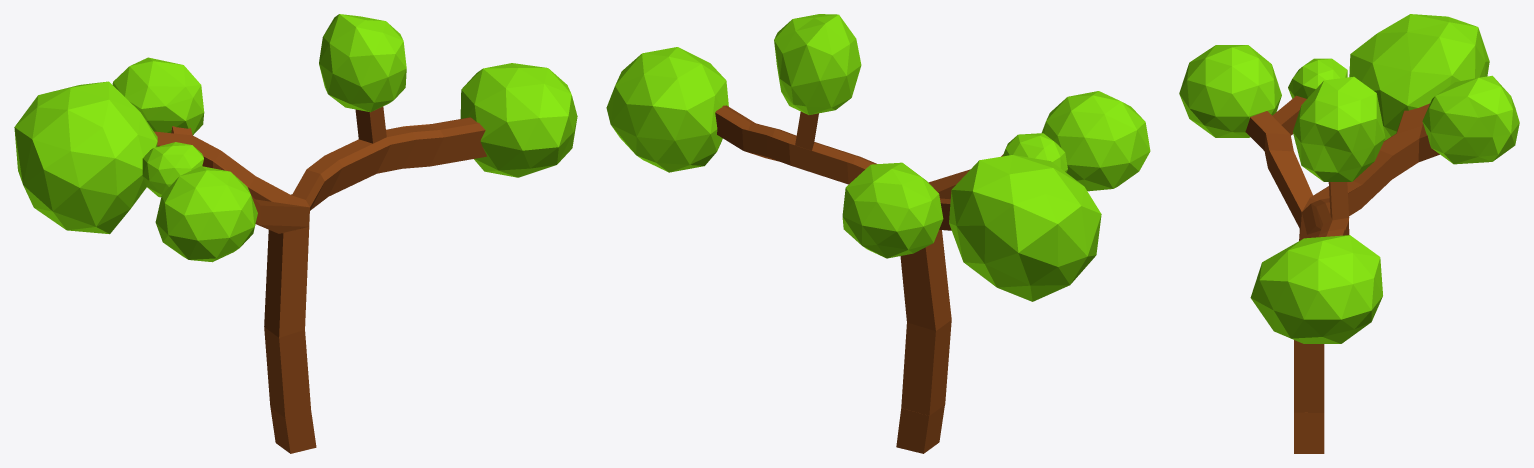
The model's file is Tree01.fbx.
3 views of the same model, side by side, from view 1: azimuth 30°, elevation 25°; view 2: azimuth 150°, elevation 25°; view 3: azimuth 270°, elevation 25° (orthographic). The views are drawn at different scales.
Parts seen in each view (by area): view 1: Icosphere.002, Tree Trunk.001; view 2: Icosphere.002, Tree Trunk.001; view 3: Icosphere.002, Tree Trunk.001.
Part boxes in pixels (x1,y1,x2,y2): Icosphere.002: [14, 14, 577, 417]; Tree Trunk.001: [270, 407, 316, 453]; Icosphere.002: [606, 14, 1150, 415]; Tree Trunk.001: [896, 405, 944, 453]; Icosphere.002: [1179, 14, 1519, 412]; Tree Trunk.001: [1294, 412, 1324, 453].
Size of the model in its own units: 38.25 by 29.42 by 22.53.
